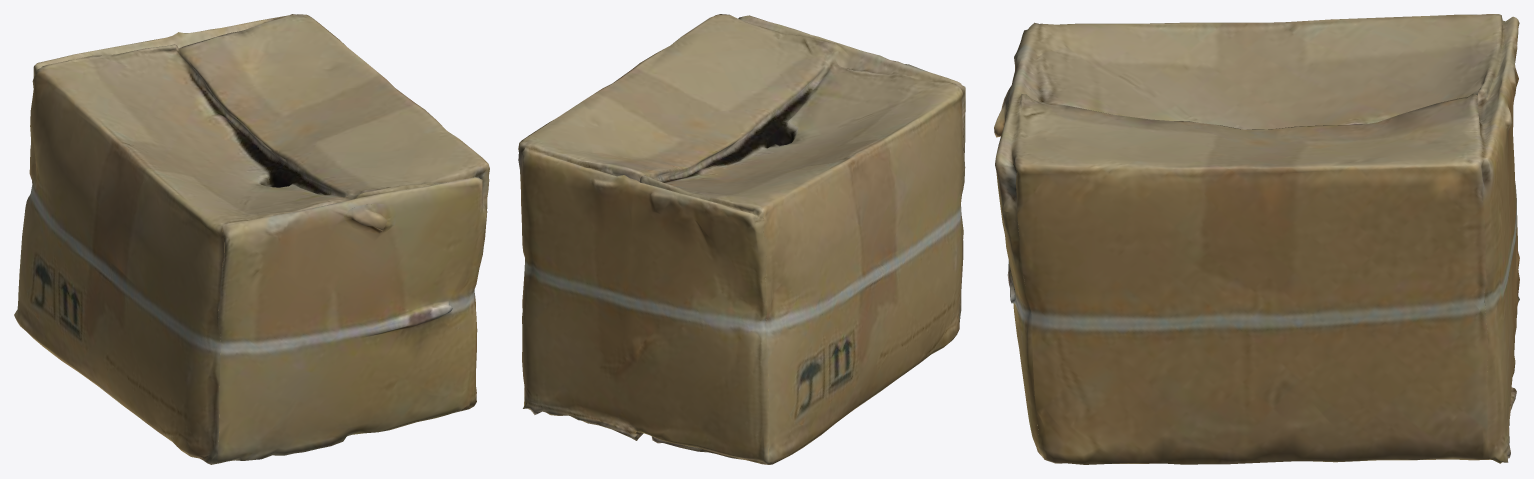
The picture shows the model from 3 angles, left to right: view 1: azimuth 30°, elevation 25°; view 2: azimuth 150°, elevation 25°; view 3: azimuth 270°, elevation 25°; orthographic projection. The views are drawn at different scales.
Parts seen in each view (by area): view 1: cardboard_box_01; view 2: cardboard_box_01; view 3: cardboard_box_01.
Part boxes in pixels (left/top/right/bottom): cardboard_box_01: left=14, top=14, right=489, bottom=464; cardboard_box_01: left=518, top=14, right=965, bottom=464; cardboard_box_01: left=994, top=14, right=1519, bottom=464.
Size of the model in its own units: 0.3871 by 0.3415 by 0.5159.
1 material, 1 textured.
